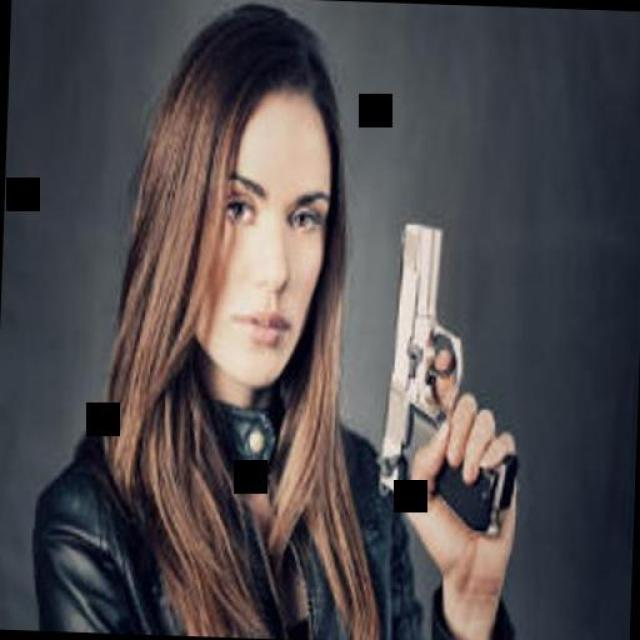gun: (370, 208, 524, 534)
